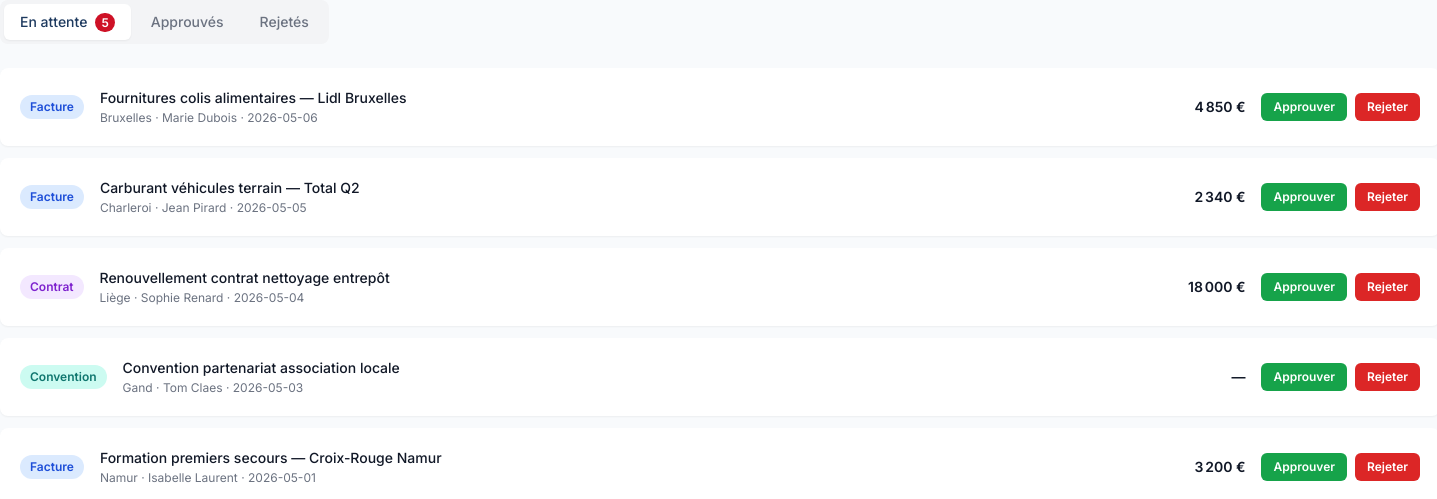
Test case: ValidationWorkflow › moves a document to Approuvés tab after clicking Approuver
Step 1. Click the button "Approuver" next to "4 850 €" → (1304, 107), box [1262,93,1347,121]
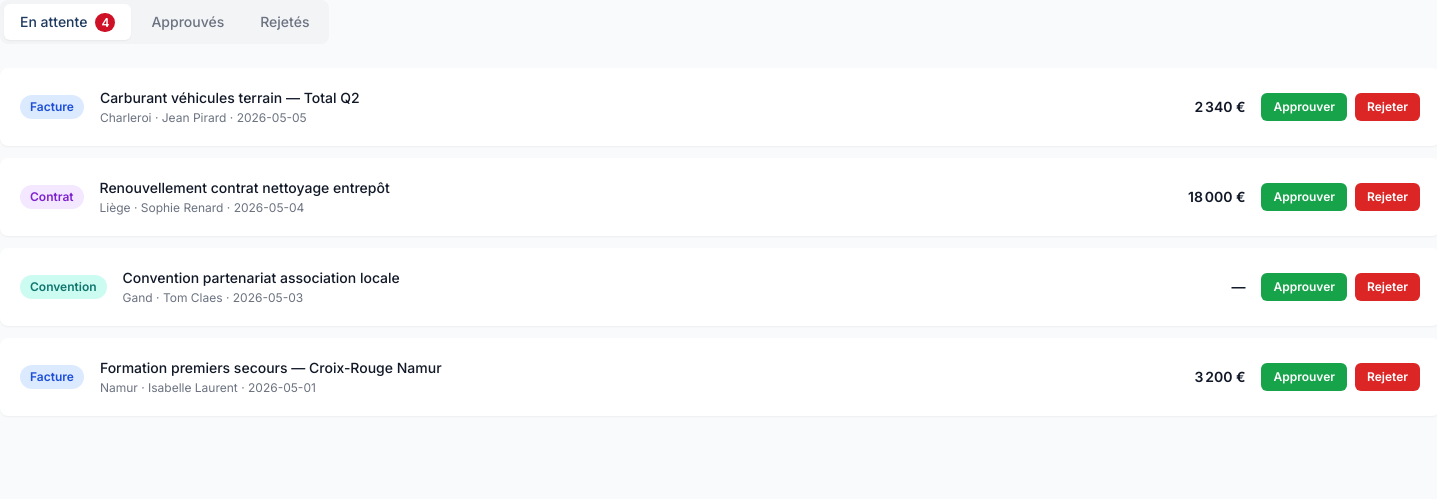
Step 2. Click the button "Approuvés" → (188, 22), box [135,4,240,40]
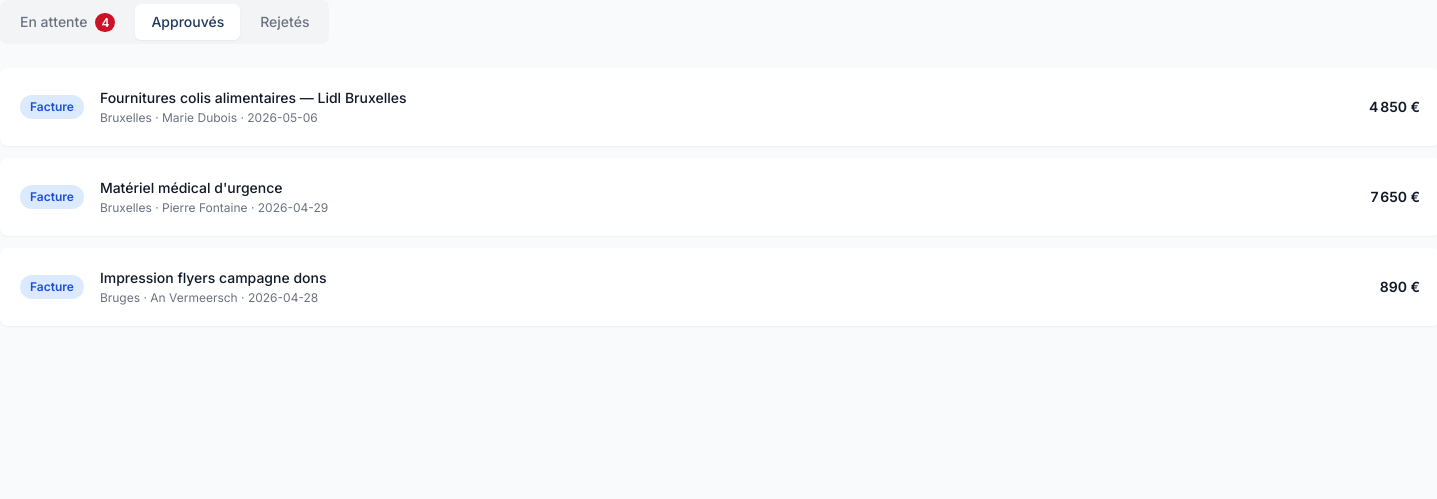
Expected: the text "Fournitures colis alimentaires — Lidl Bruxelles" is shown, [100,89,406,106]
